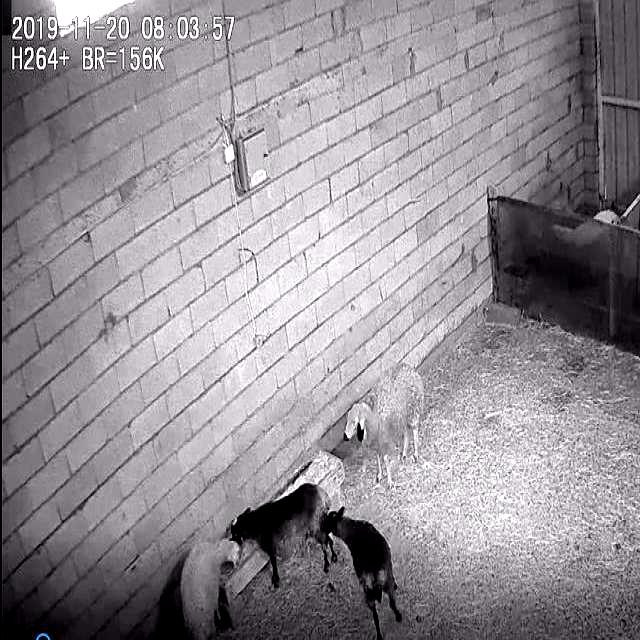sheep: (323, 502, 402, 639), (344, 365, 426, 487), (234, 490, 337, 584)
